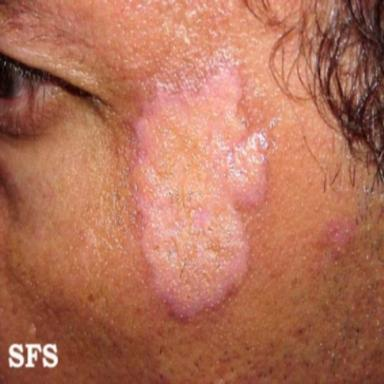Lupus-Erythematosus-Chronicus-Discoides: (131, 67, 267, 316)
